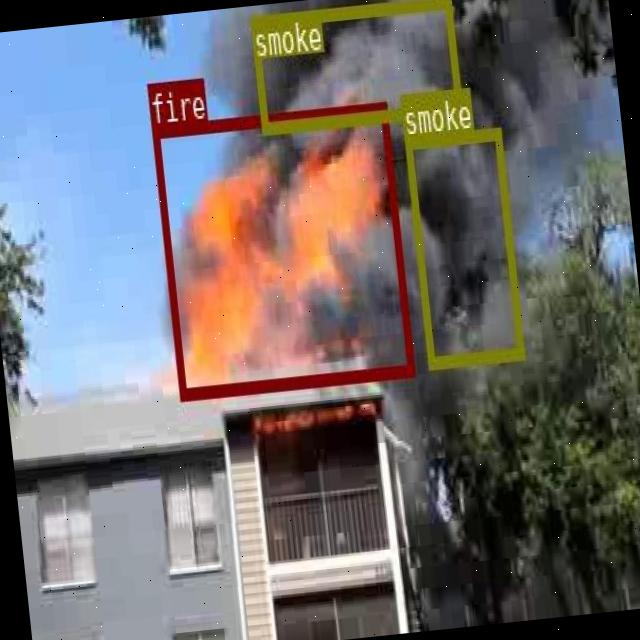fire: (151, 100, 413, 397)
smoke: (403, 125, 523, 366), (249, 0, 461, 133)
